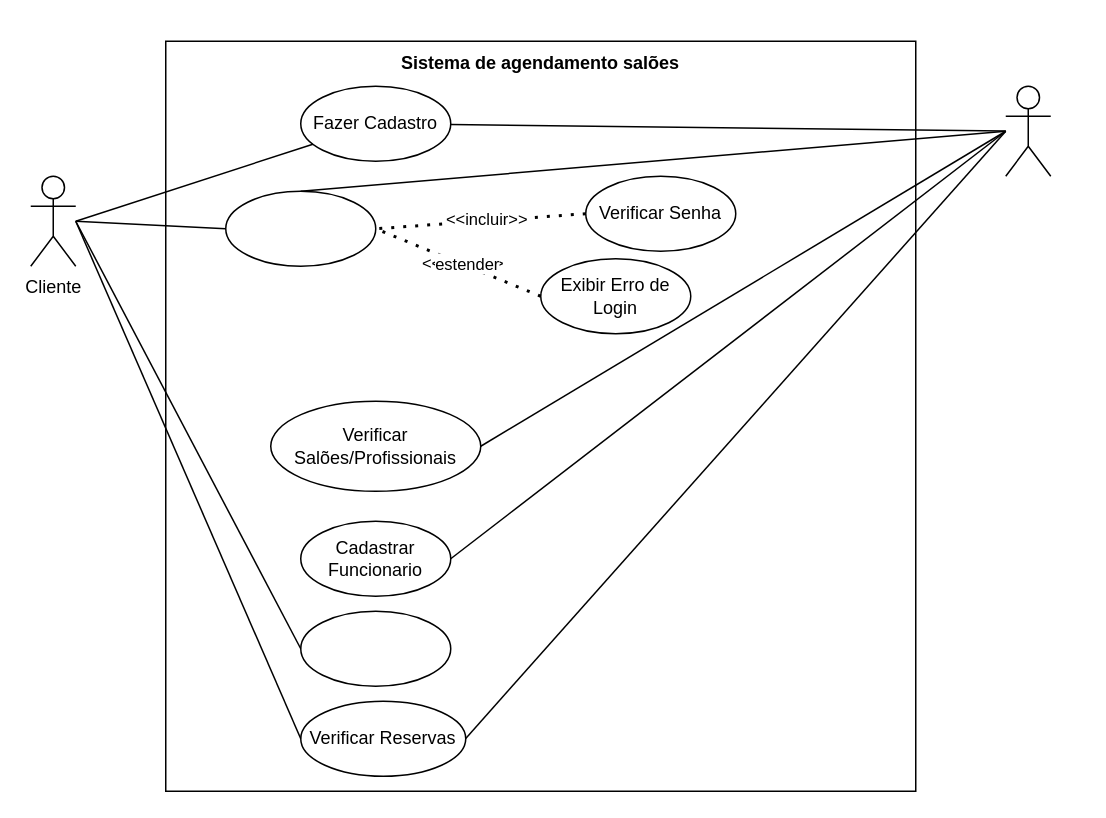
This 1106x818 diagram has some shape labels left out. Here are the shapes that lost their labels. From the top down, the centre of each, then its label:
At (1027,130): "Profissionais".
At (300,228): "Fazer Login".
At (375,648): "Fazer Agendamento".
